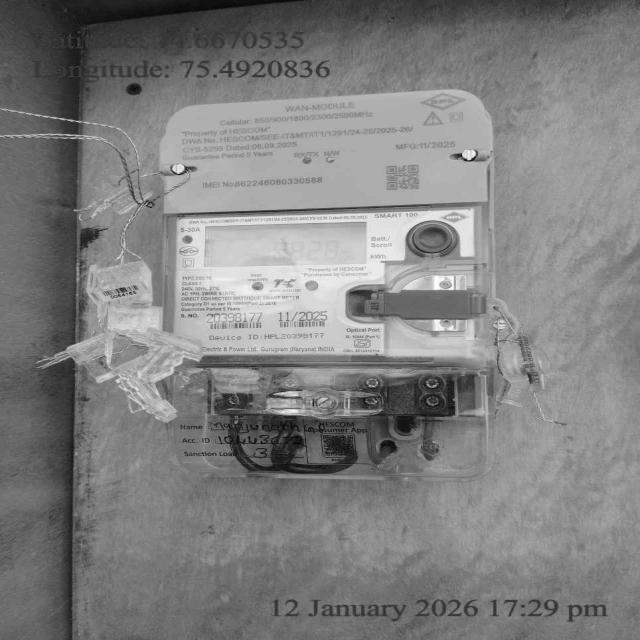meter: (168, 215, 501, 365)
